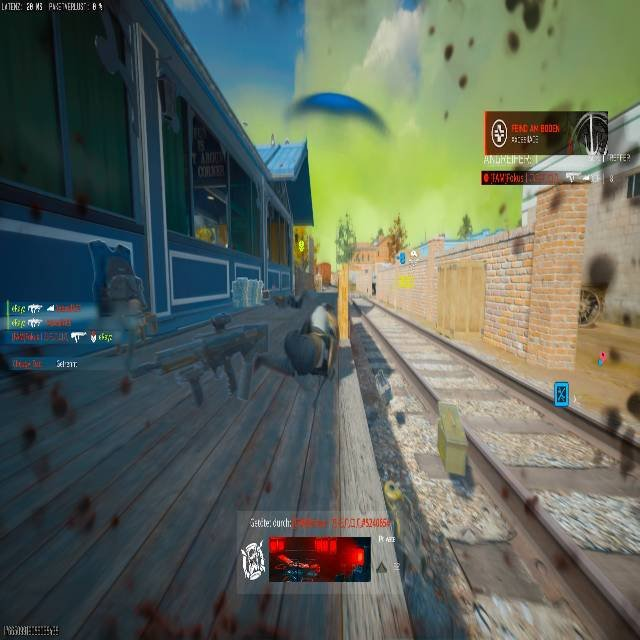player: (371, 278, 377, 294)
